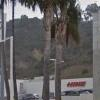Palm tree: (35, 5, 65, 99)
